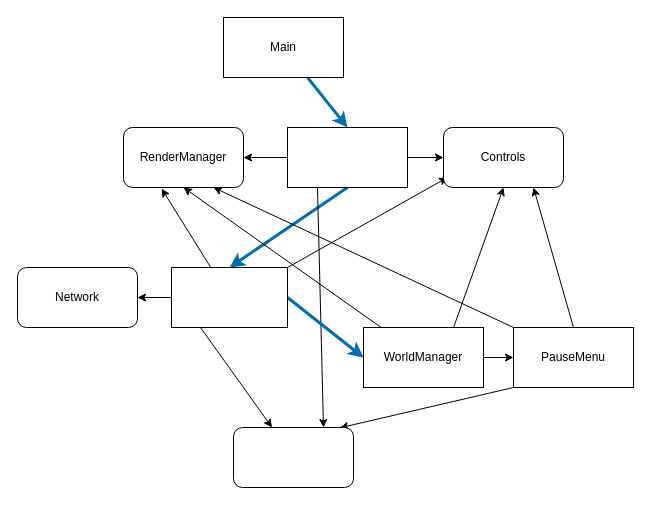
This 651x505 diagram has some shape labels left out. Each missing label, with the centre of its shape:
"GameManager" goes at (x=347, y=157).
"MainMenu" goes at (x=229, y=297).
"Settings" goes at (x=293, y=457).
